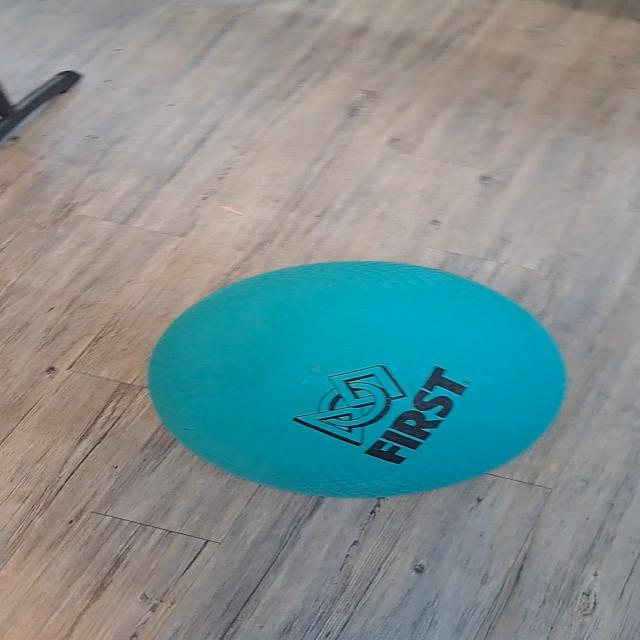ALGAE: (144, 259, 568, 499)
